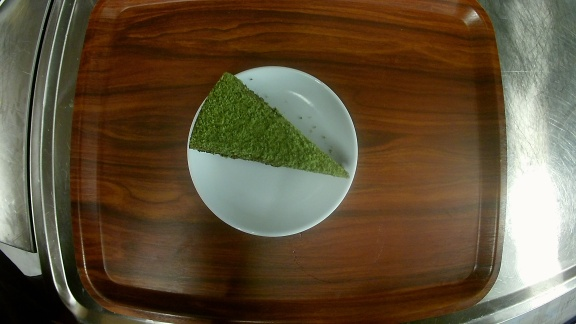fistiklipasta: (187, 64, 359, 238)
